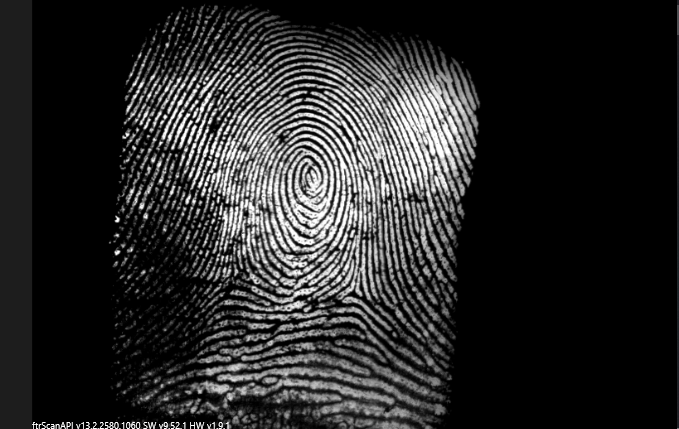deltas: (209, 250, 262, 298), (332, 260, 376, 308)
nucleo: (287, 153, 328, 198)
